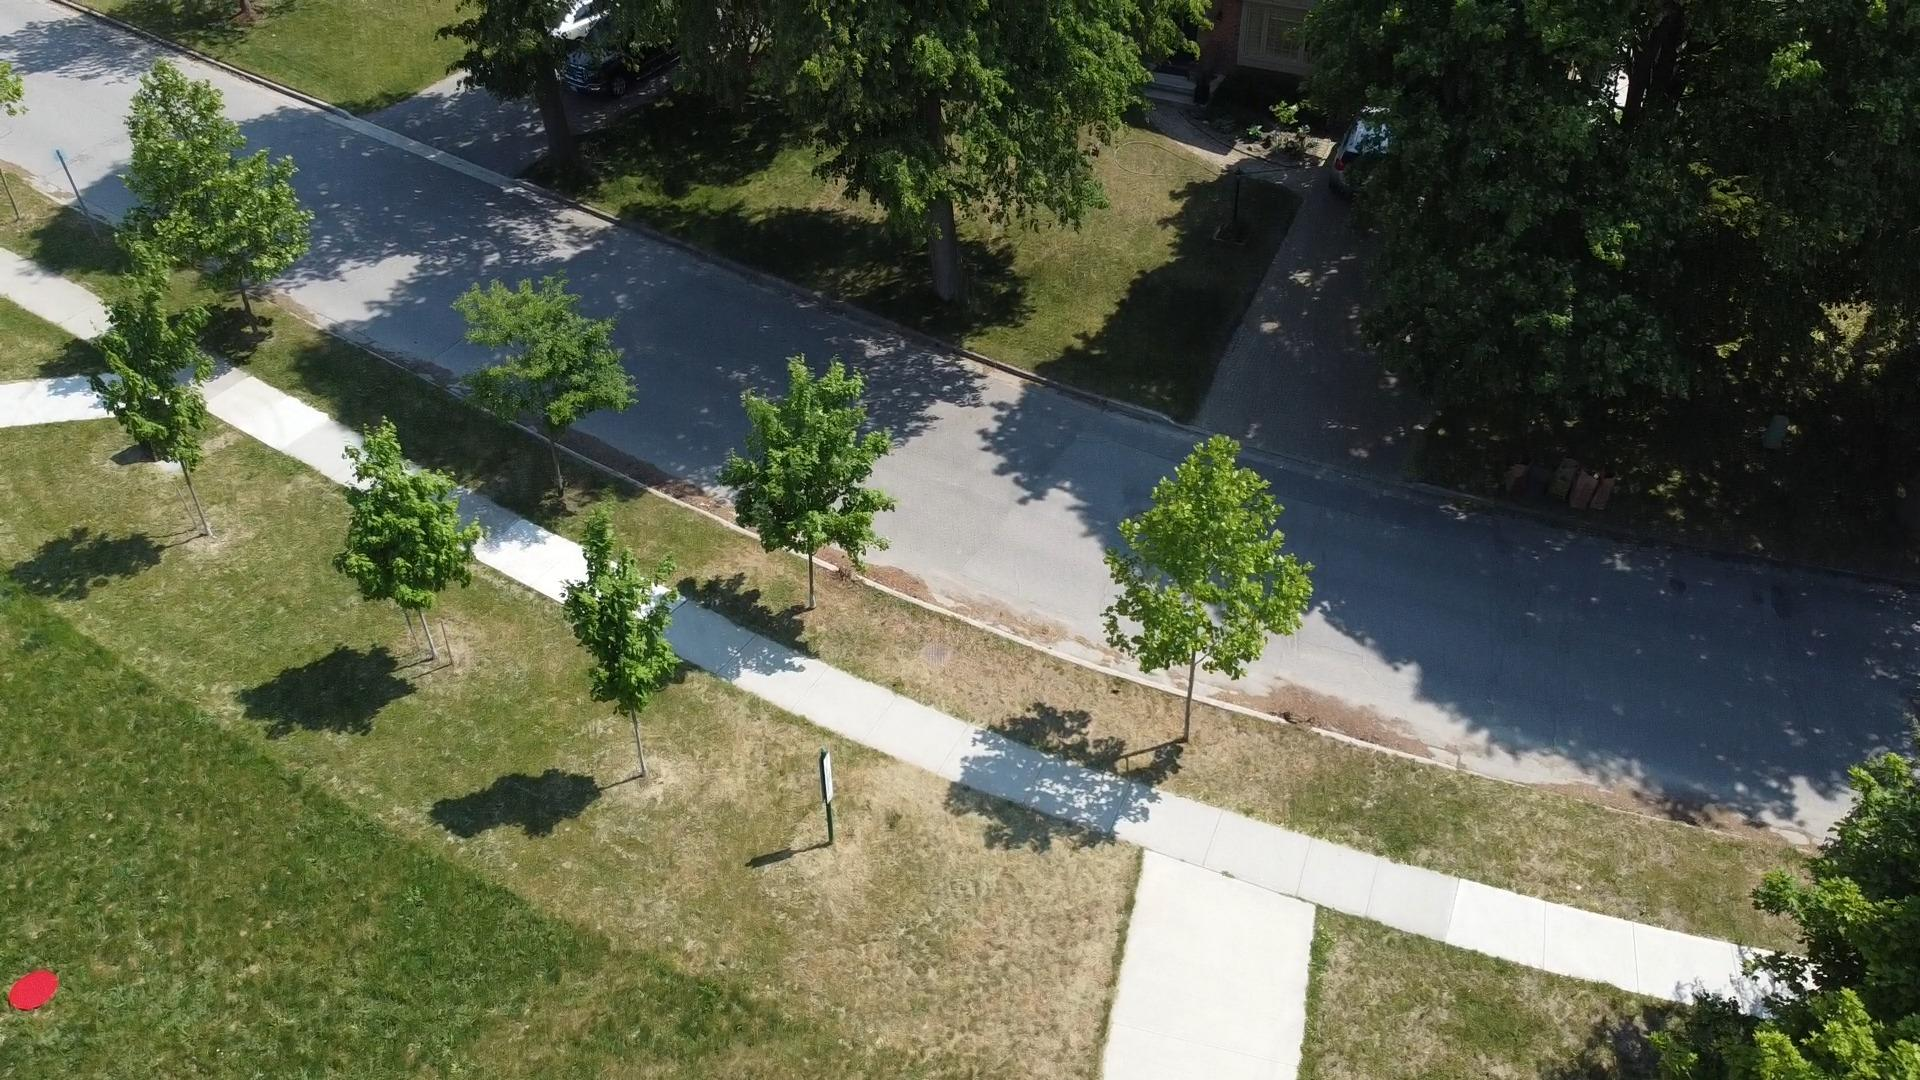Red: (8, 968, 59, 1010)
